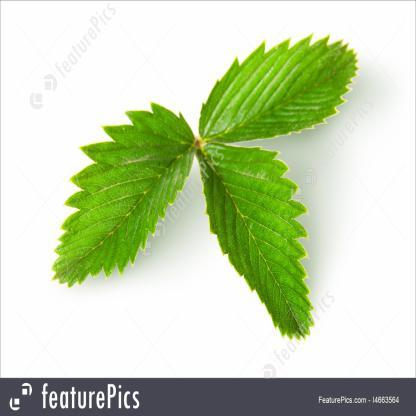Strawberry leaf: (48, 97, 197, 298), (198, 128, 324, 348), (199, 16, 364, 147)
